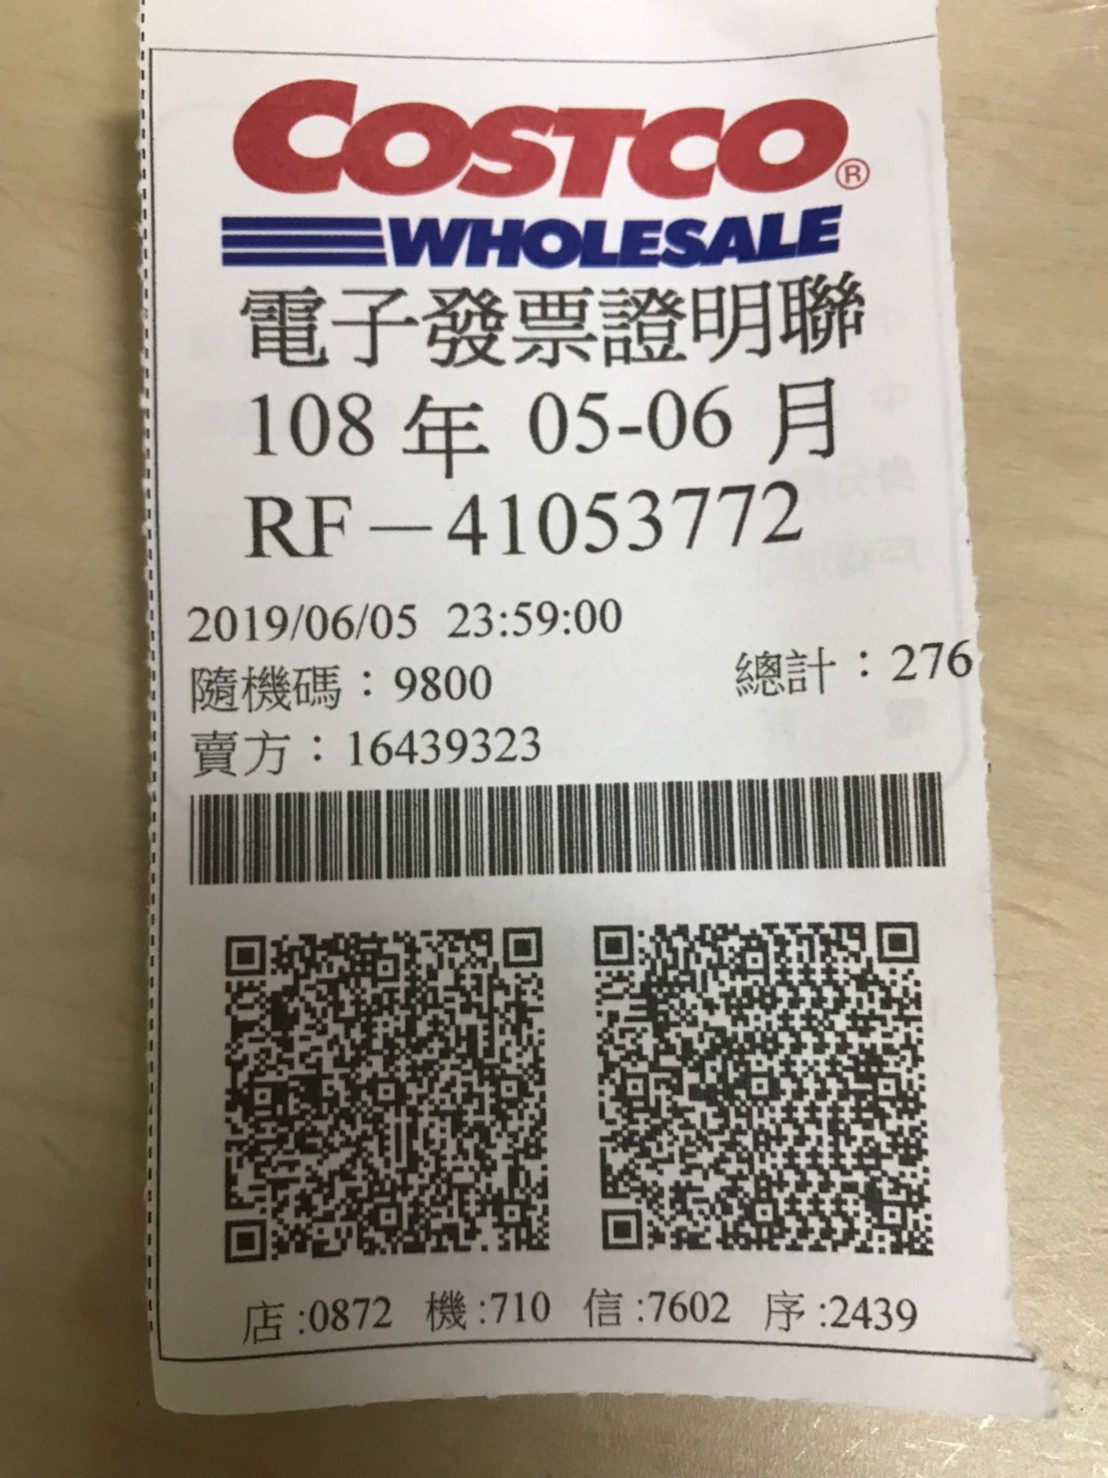Date_New: (248, 370, 841, 469)
Number_New: (446, 475, 812, 556)
